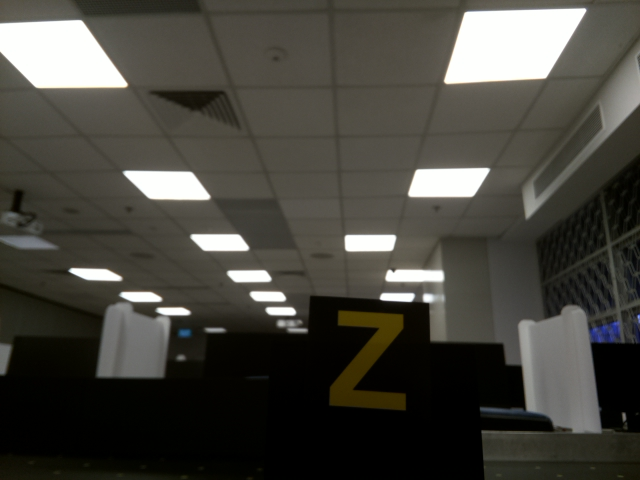z: (330, 304, 408, 415)
